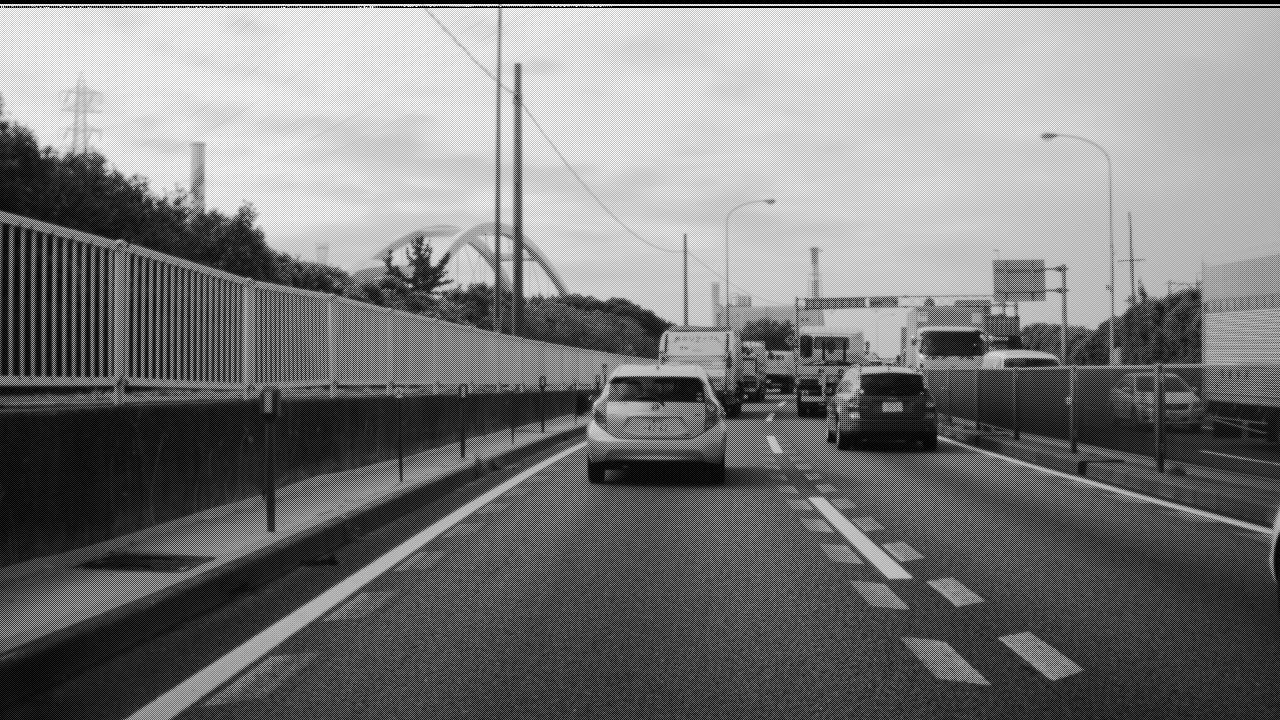pole: (492, 3, 506, 331), (1104, 153, 1117, 366), (513, 63, 522, 336), (1061, 262, 1069, 364), (681, 232, 689, 326), (725, 214, 731, 326)
